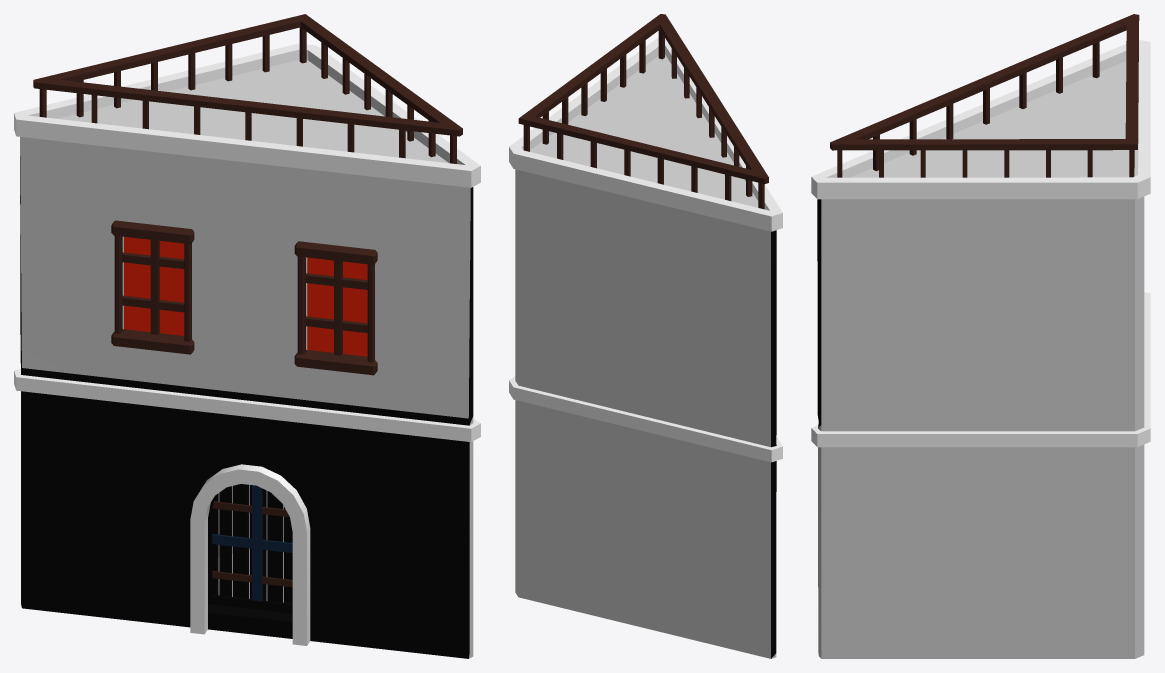
Rendered from civilian_house_40_d.FBX.
3 views of the same model, side by side, from view 1: azimuth 30°, elevation 25°; view 2: azimuth 150°, elevation 25°; view 3: azimuth 270°, elevation 25° (orthographic). The views are drawn at different scales.
Parts seen in each view (by area): view 1: civilian_house_40_d; view 2: civilian_house_40_d; view 3: civilian_house_40_d.
Part boxes in pixels (x1,y1,x2,y2): civilian_house_40_d: (14, 14, 480, 658); civilian_house_40_d: (509, 14, 782, 658); civilian_house_40_d: (811, 14, 1150, 658).
Bounding box in the file's own units: 524 × 874 × 524.
